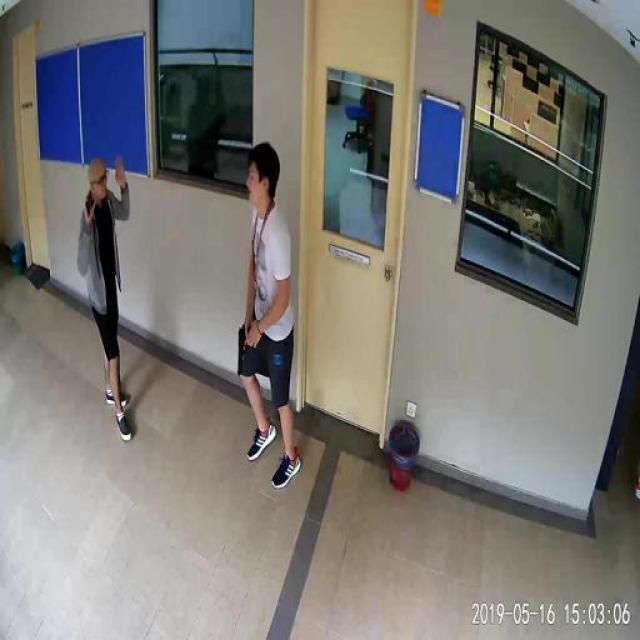weapon: (236, 323, 258, 379)
